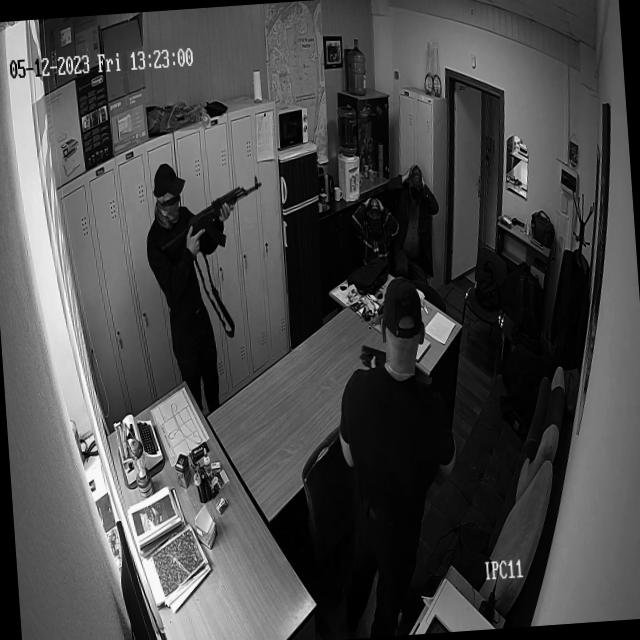gun: (153, 175, 264, 261), (358, 339, 384, 366)
person: (386, 158, 442, 274), (349, 192, 402, 272)
person with a gun: (330, 272, 463, 558), (138, 154, 274, 372)
